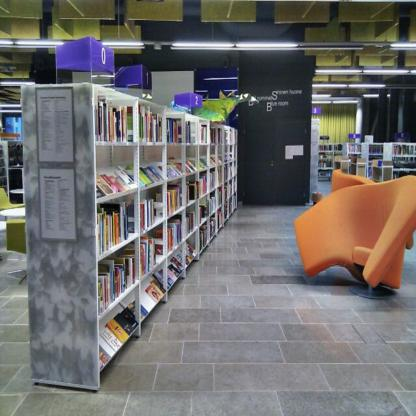book: (100, 233, 157, 316), (145, 240, 199, 305), (192, 194, 236, 250), (97, 193, 129, 261), (92, 98, 134, 141), (92, 166, 134, 196), (128, 194, 154, 232), (156, 187, 182, 223), (139, 106, 163, 144), (152, 219, 174, 255), (126, 164, 160, 186), (174, 207, 196, 238), (100, 324, 124, 352), (117, 309, 140, 338), (182, 172, 199, 209), (159, 160, 183, 182), (107, 317, 127, 342), (128, 300, 148, 322), (99, 340, 111, 370), (392, 142, 416, 156), (166, 118, 180, 139), (197, 176, 209, 198), (366, 142, 386, 154), (210, 127, 222, 146), (187, 119, 196, 144), (205, 171, 217, 189), (396, 156, 416, 166), (199, 126, 208, 142), (223, 149, 236, 160), (188, 160, 198, 174), (348, 143, 362, 153), (214, 165, 222, 182), (198, 204, 209, 216), (199, 156, 209, 168), (220, 165, 228, 180), (225, 129, 233, 143), (216, 190, 221, 208), (227, 161, 232, 177), (378, 156, 384, 166), (214, 155, 219, 166), (209, 201, 214, 211), (332, 145, 342, 150), (227, 184, 231, 194), (223, 186, 226, 198), (316, 147, 332, 149)
